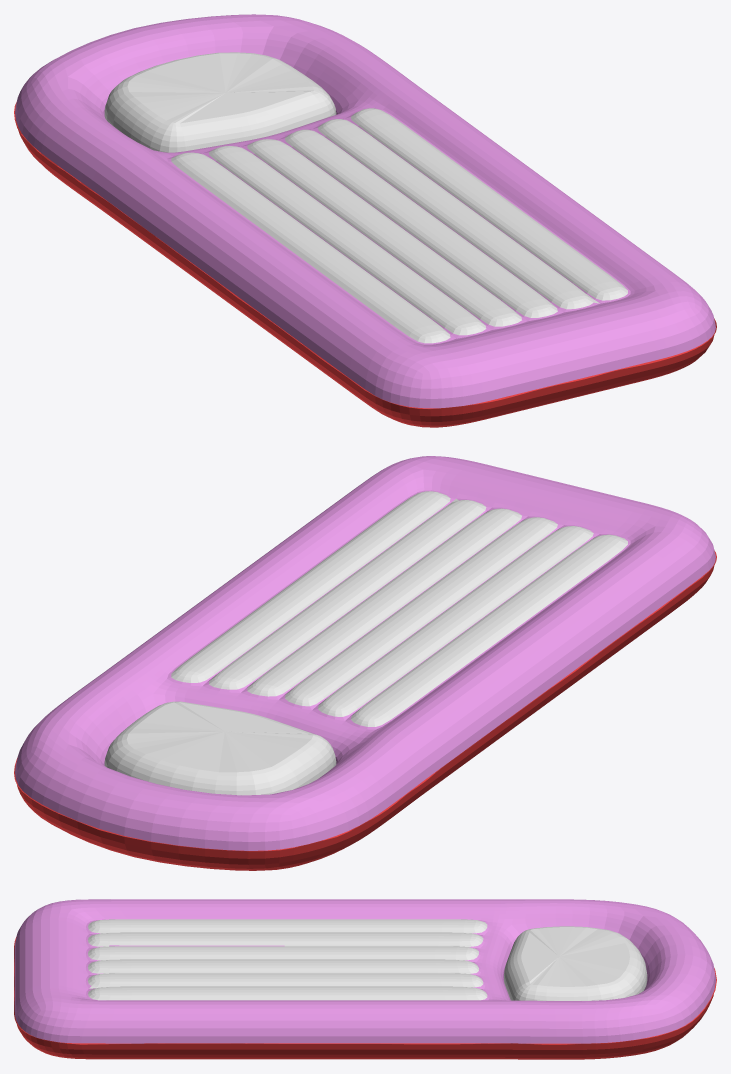
File: Colorfull Mattress Seperated Materials.fbx
The picture shows the model from 3 angles, top to bottom: view 1: azimuth 30°, elevation 25°; view 2: azimuth 150°, elevation 25°; view 3: azimuth 270°, elevation 25°; orthographic projection. The views are drawn at different scales.
Parts seen in each view (by area): view 1: Inflatable_pool_mattress.001; view 2: Inflatable_pool_mattress.001; view 3: Inflatable_pool_mattress.001.
Part boxes in pixels (x1=…): Inflatable_pool_mattress.001: x1=14, y1=14, x2=716, y2=427; Inflatable_pool_mattress.001: x1=14, y1=456, x2=716, y2=870; Inflatable_pool_mattress.001: x1=14, y1=899, x2=716, y2=1059.
Bounding box in the file's own units: 1.54 × 0.2994 × 3.56.
